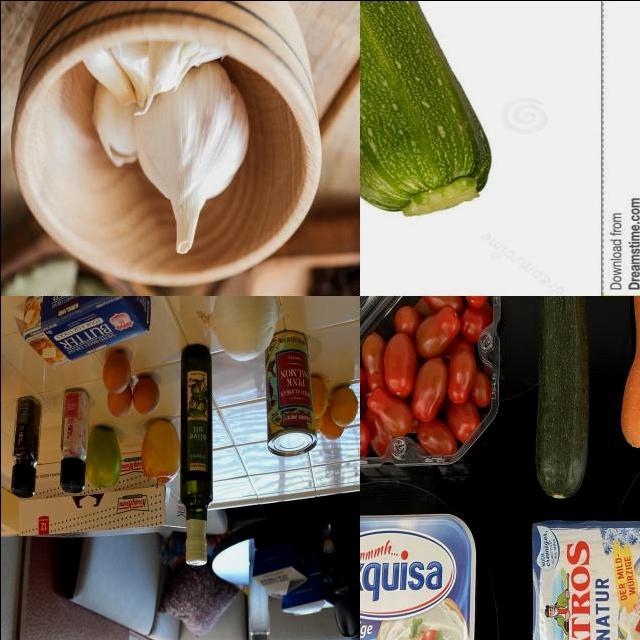bell_pepper: (12, 398, 41, 498)
carrot: (610, 296, 640, 457)
egg: (102, 349, 132, 393), (134, 372, 160, 414)
garlic: (134, 59, 251, 257)
onion: (198, 296, 281, 359)
tomato: (360, 296, 501, 491)
zucchini: (360, 1, 500, 221), (514, 296, 593, 508)
